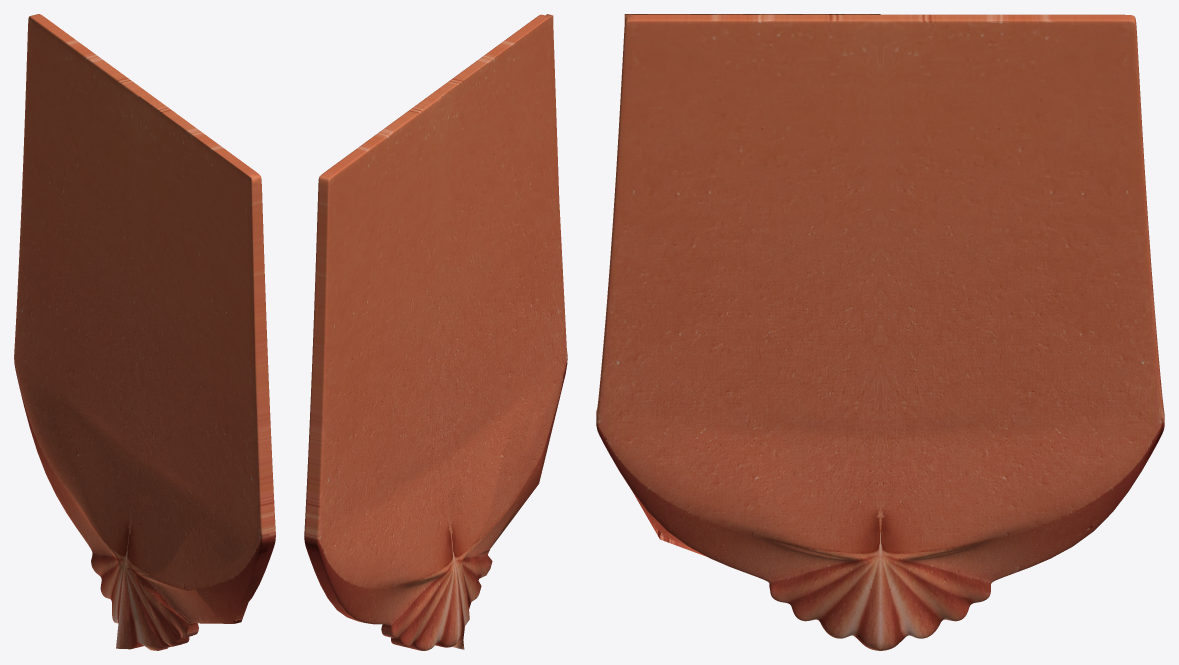
Rendered from gach_ngoi.glb.
3 views of the same model, side by side, from view 1: azimuth 30°, elevation 25°; view 2: azimuth 150°, elevation 25°; view 3: azimuth 270°, elevation 25° (orthographic). The views are drawn at different scales.
Parts seen in each view (by area): view 1: daxapply, nguyenmau; view 2: daxapply, nguyenmau; view 3: daxapply, nguyenmau.
Boxes of the visible parts, box(x1,y1,x2,y2) form: daxapply: box(14, 14, 275, 647); nguyenmau: box(116, 96, 269, 650); daxapply: box(304, 14, 557, 650); nguyenmau: box(439, 14, 567, 649); daxapply: box(596, 14, 1164, 650); nguyenmau: box(596, 14, 880, 588).
Bounding box in the file's own units: 0.3977 × 3.95 × 3.25.
1 material, 1 textured.
